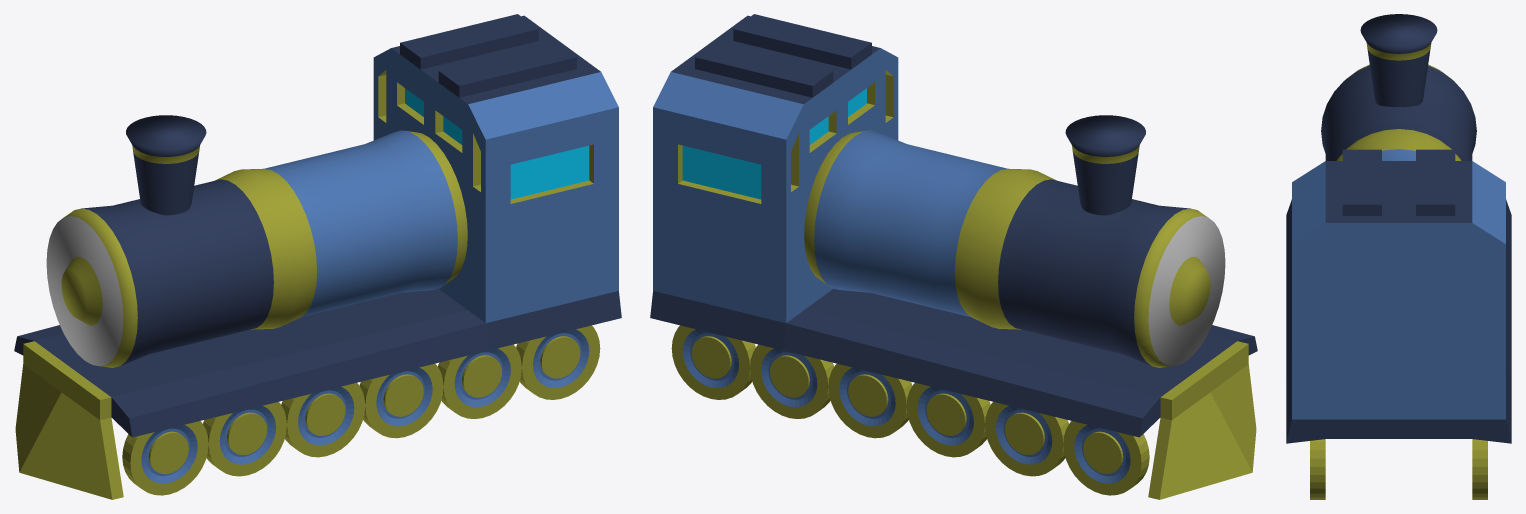
Rendered from TrainModel02.fbx.
3 renders of one model, left to right at view 1: azimuth 30°, elevation 25°; view 2: azimuth 150°, elevation 25°; view 3: azimuth 270°, elevation 25°, orthographic. The views are drawn at different scales.
Visible parts, largest first — view 1: TrainModel02; view 2: TrainModel02; view 3: TrainModel02.
Part boxes in pixels (box(x1,y1,x2,y2)): TrainModel02: box(14, 14, 621, 499); TrainModel02: box(650, 14, 1257, 499); TrainModel02: box(1286, 14, 1511, 499).
Bounding box in the file's own units: 816 × 461 × 307.
